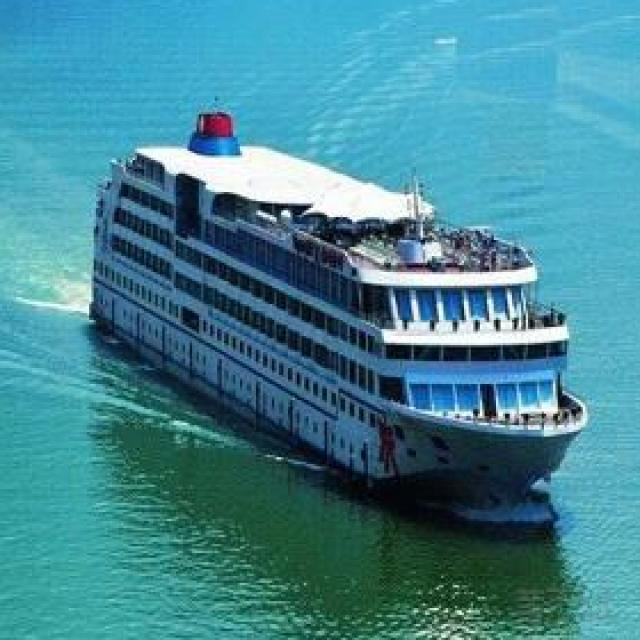passenger ship: (88, 98, 586, 532)
